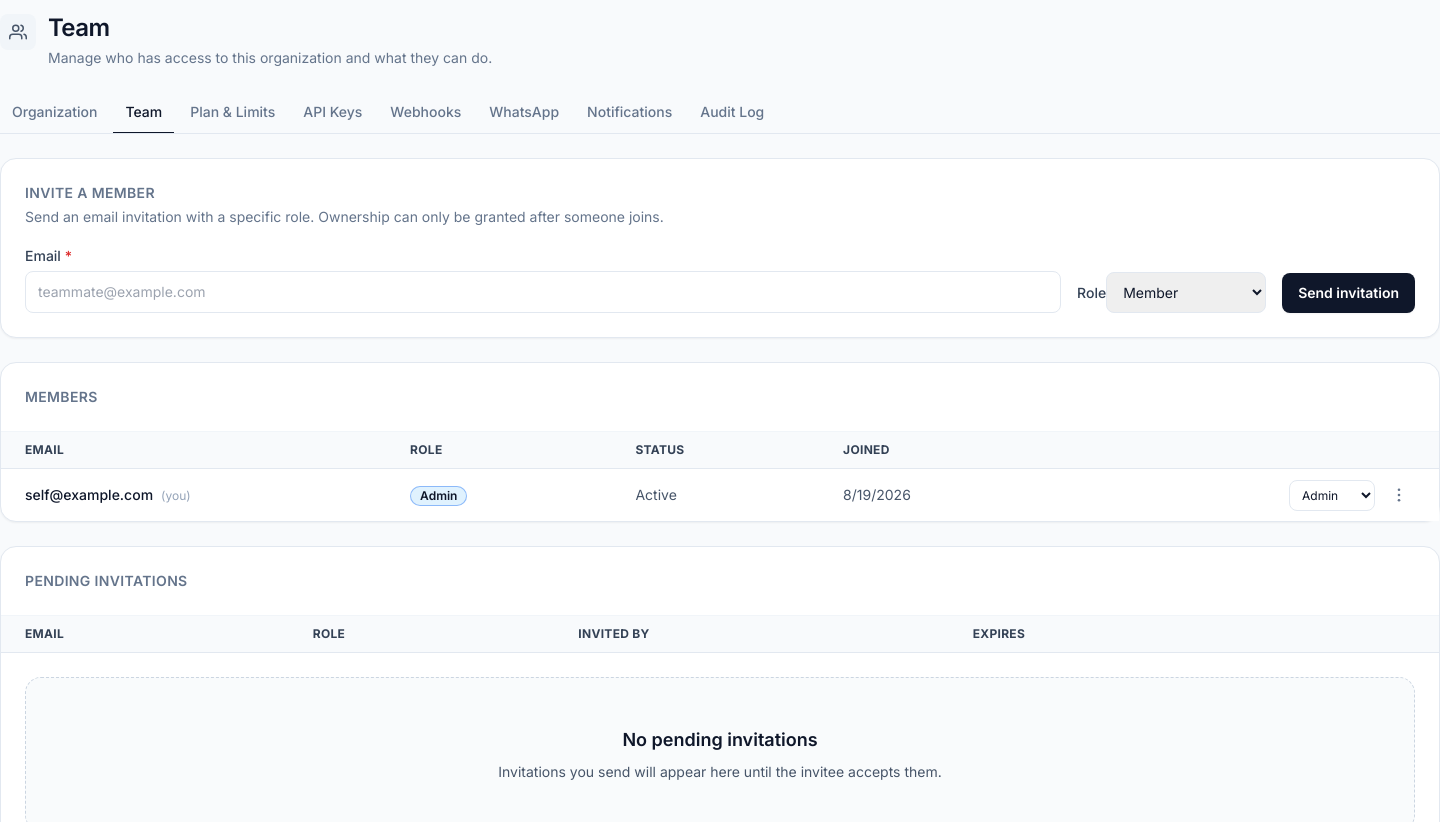
Scenario: Team page permission-gated rendering › hides management controls immediately after self-demotion, with no reload needed
The width and height of the screenshot is (1440, 822).
Expected: the button "Send invitation" is shown, [1282,273,1415,313]
Select "Viewer" in the dropdown named "Change role for self@example.com" at (1332, 495), box [1289,480,1375,510]
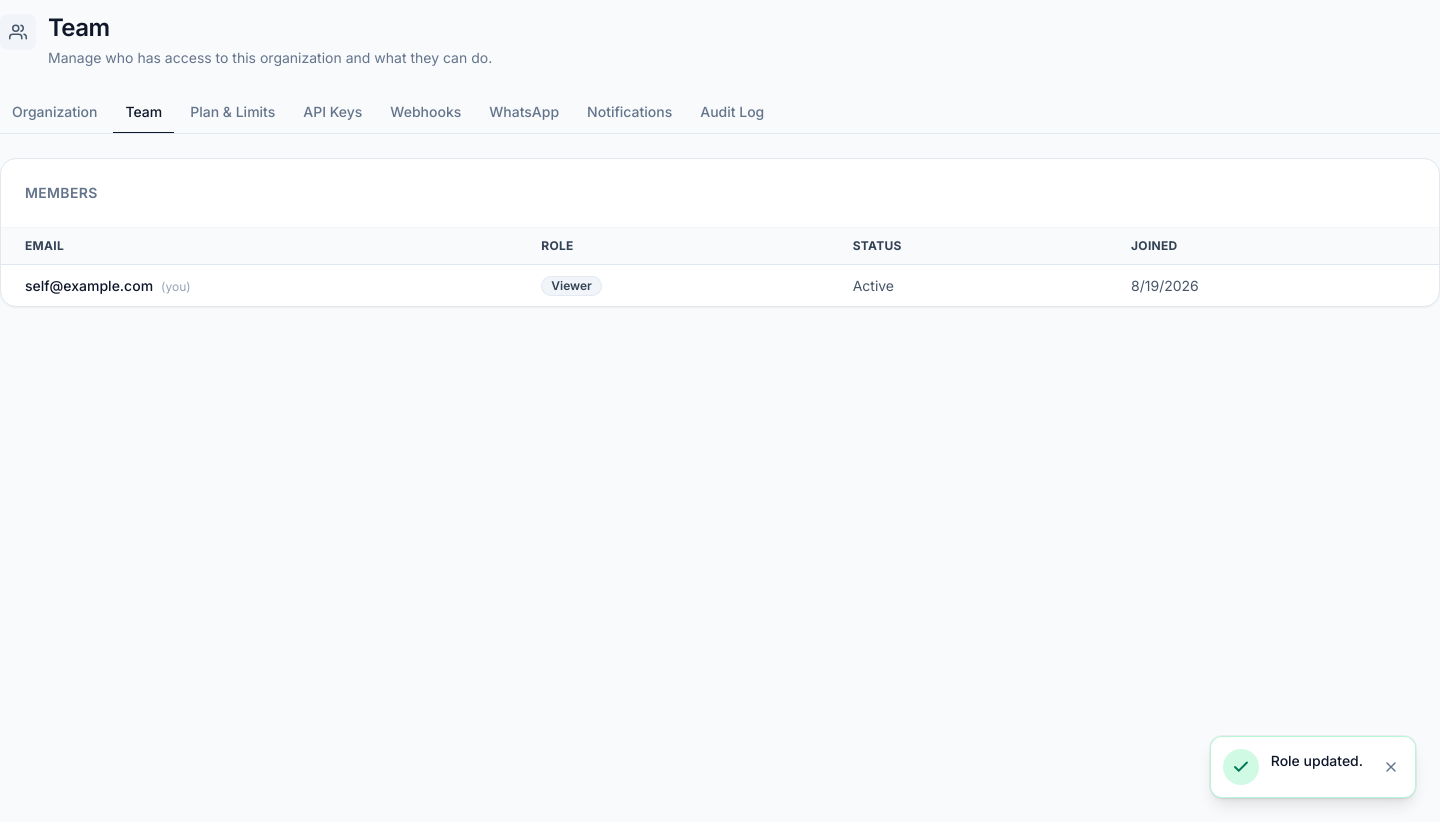
Now the button "Send invitation" is gone
Now the dropdown is gone
